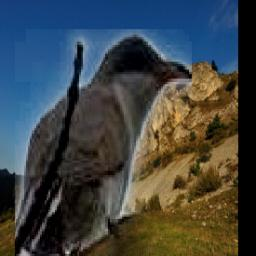Cuckoo: (15, 30, 192, 256)
